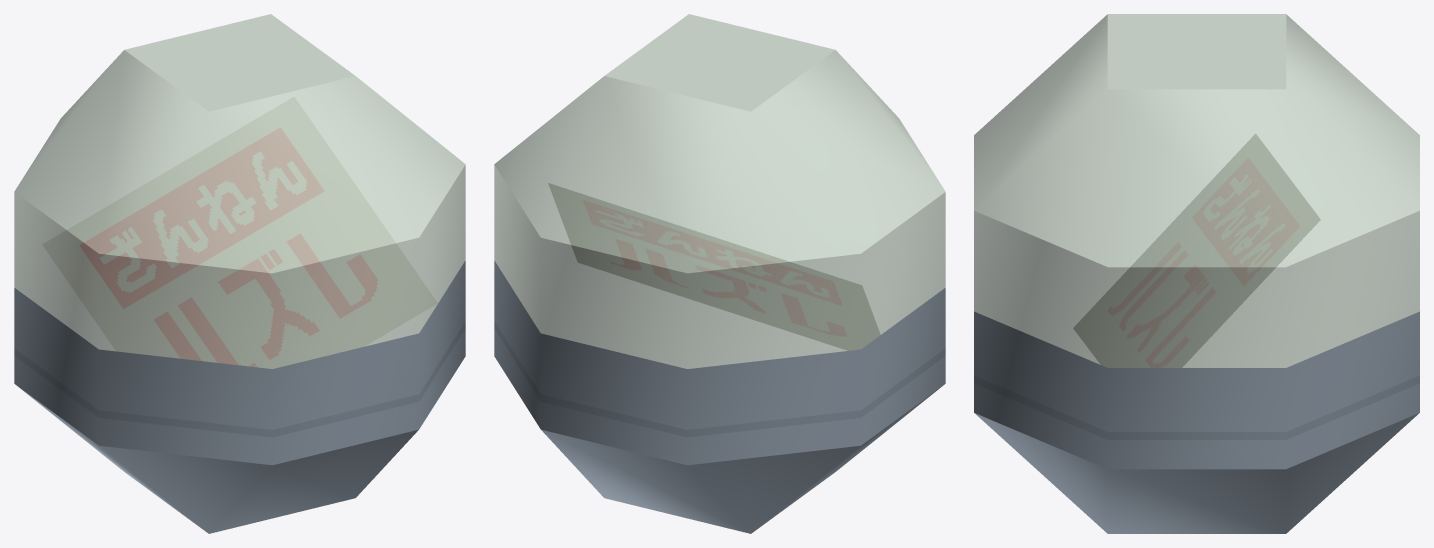
The model's file is 0323_Toy_Capsule.glb.
The picture shows the model from 3 angles, left to right: view 1: azimuth 30°, elevation 25°; view 2: azimuth 150°, elevation 25°; view 3: azimuth 270°, elevation 25°; orthographic projection. The views are drawn at different scales.
Parts seen in each view (by area): view 1: part_0; view 2: part_0; view 3: part_0.
Part boxes in pixels (left/top/right/bottom): part_0: left=14, top=14, right=465, bottom=533; part_0: left=494, top=14, right=945, bottom=533; part_0: left=974, top=14, right=1419, bottom=533.
Bounding box in the file's own units: 0.05 × 0.055 × 0.05.
Materials: 1 (1 with a texture image).
